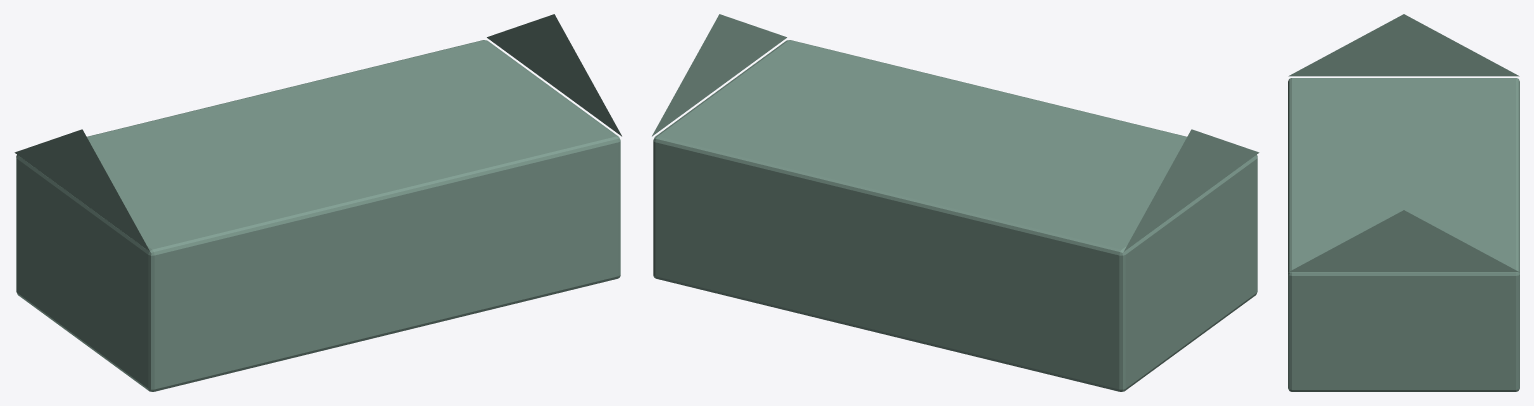
Rendered from SM_StationWalls.fbx.
3 renders of one model, left to right at view 1: azimuth 30°, elevation 25°; view 2: azimuth 150°, elevation 25°; view 3: azimuth 270°, elevation 25°, orthographic. The views are drawn at different scales.
Parts seen in each view (by area): view 1: SM_StationWalls; view 2: SM_StationWalls; view 3: SM_StationWalls.
Part boxes in pixels (x1,y1,x2,y2): SM_StationWalls: [14, 14, 621, 391]; SM_StationWalls: [652, 14, 1259, 391]; SM_StationWalls: [1288, 14, 1519, 391].
Bounding box in the file's own units: 1180 × 590 × 515.
